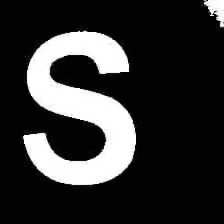LTR_S: (14, 26, 140, 186)
